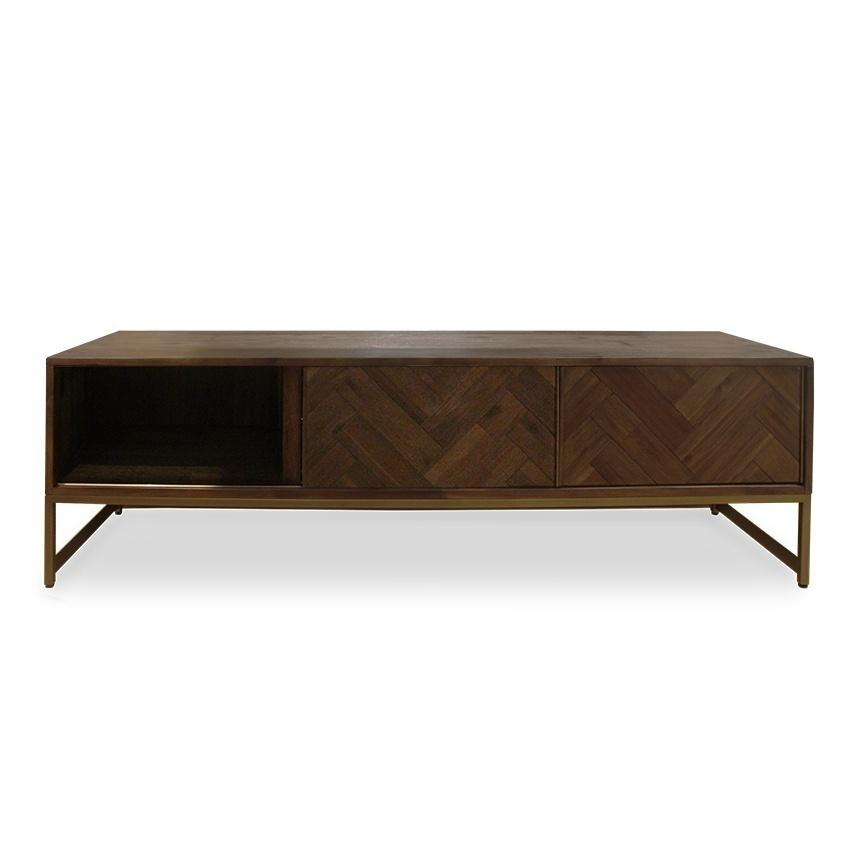cabinet_door: (301, 365, 558, 490), (556, 362, 800, 484)
